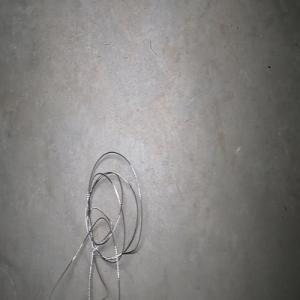Wire: (48, 151, 142, 300)
